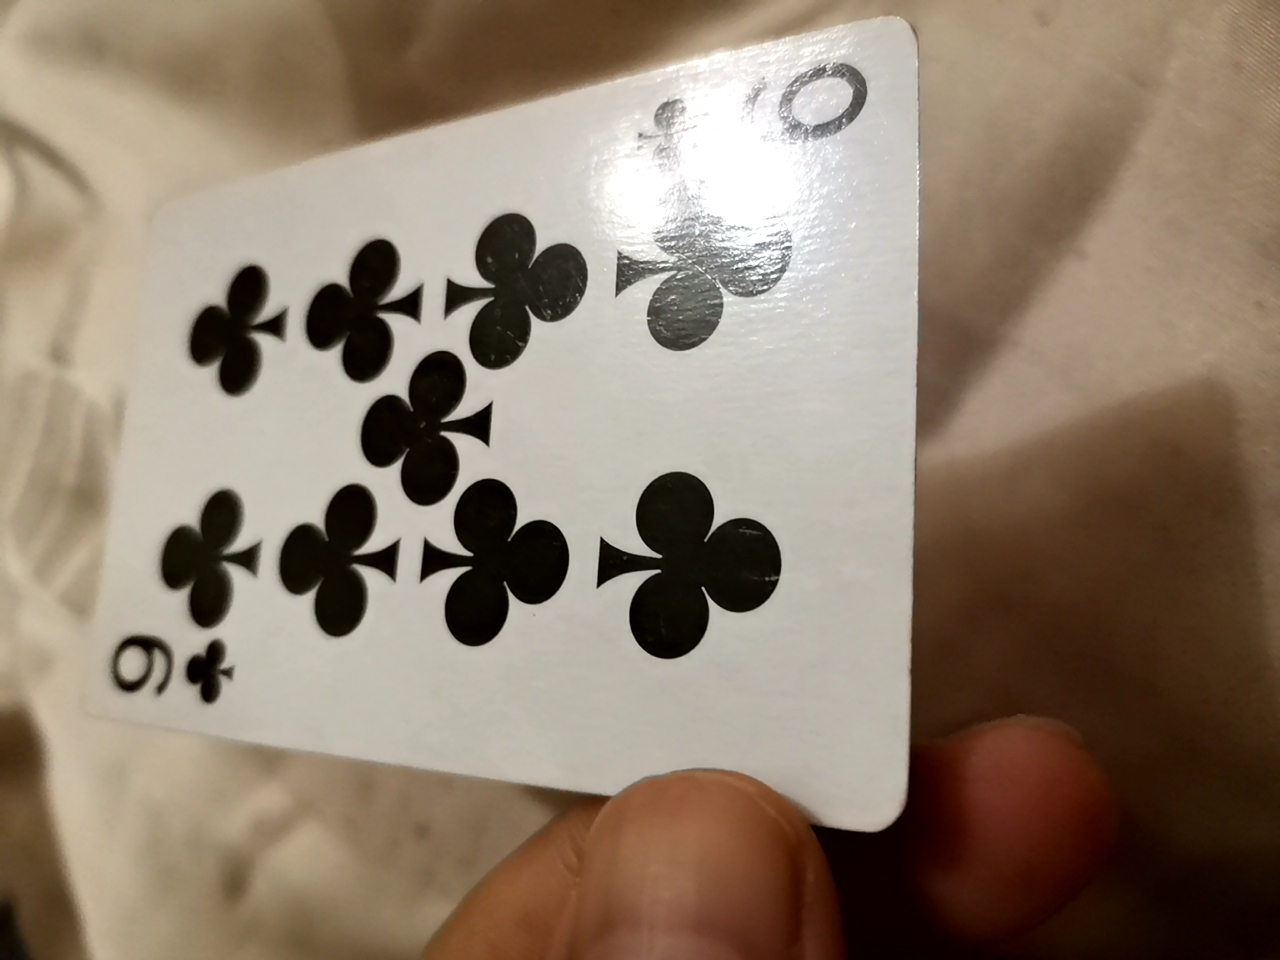mh 9: (61, 41, 928, 841)
